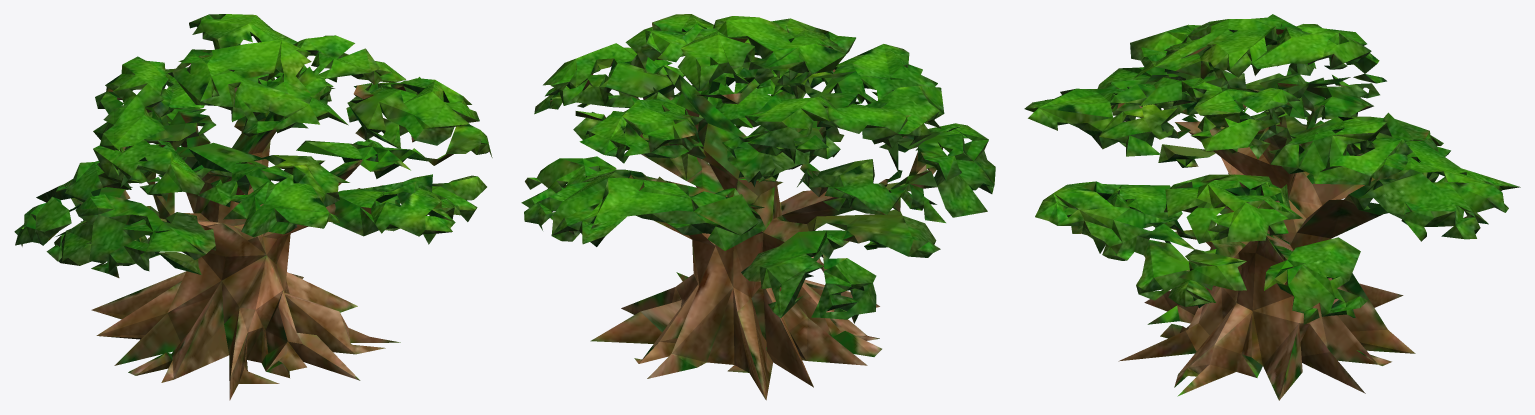
File: dino_canopy_small_1116.glb
The picture shows the model from 3 angles, left to right: view 1: azimuth 30°, elevation 25°; view 2: azimuth 150°, elevation 25°; view 3: azimuth 270°, elevation 25°; orthographic projection. The views are drawn at different scales.
Parts seen in each view (by area): view 1: world; view 2: world; view 3: world.
Part boxes in pixels (bbox=[...]): world: bbox=[14, 14, 492, 400]; world: bbox=[521, 14, 995, 400]; world: bbox=[1024, 14, 1520, 400].
Size of the model in its own units: 1.51 by 0.9978 by 1.44.
Materials: 1 (1 with a texture image).
